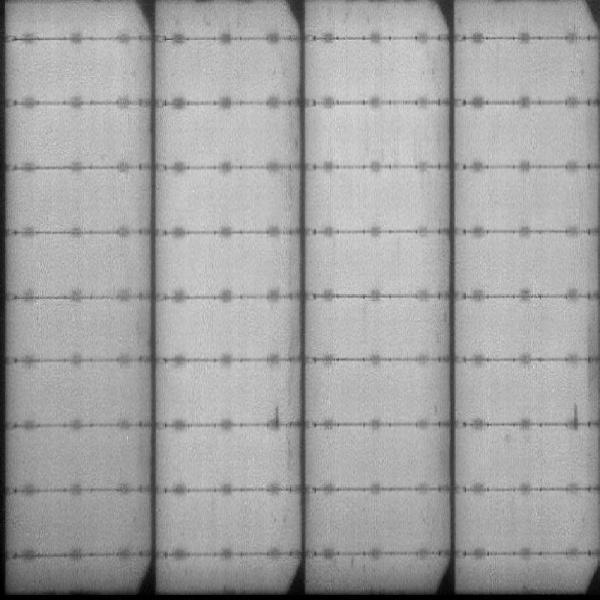scratch: (568, 403, 581, 429), (273, 406, 279, 431)
